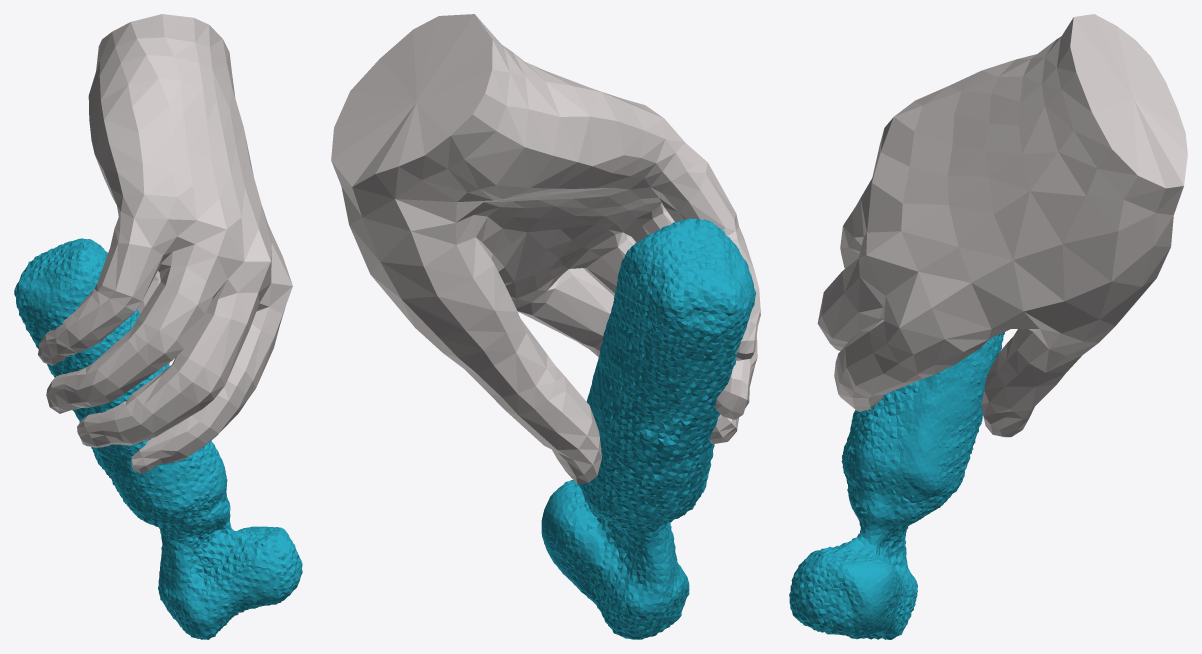
3 views of the same model, side by side, from view 1: azimuth 30°, elevation 25°; view 2: azimuth 150°, elevation 25°; view 3: azimuth 270°, elevation 25° (orthographic). The views are drawn at different scales.
Parts seen in each view (by area): view 1: world; view 2: world; view 3: world.
Part boxes in pixels (bbox=[...]): world: bbox=[14, 14, 302, 639]; world: bbox=[331, 14, 760, 639]; world: bbox=[789, 14, 1187, 639].
Size of the model in its own units: 0.1108 by 0.2185 by 0.1214.
